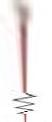resistor: (8, 86, 40, 117)
